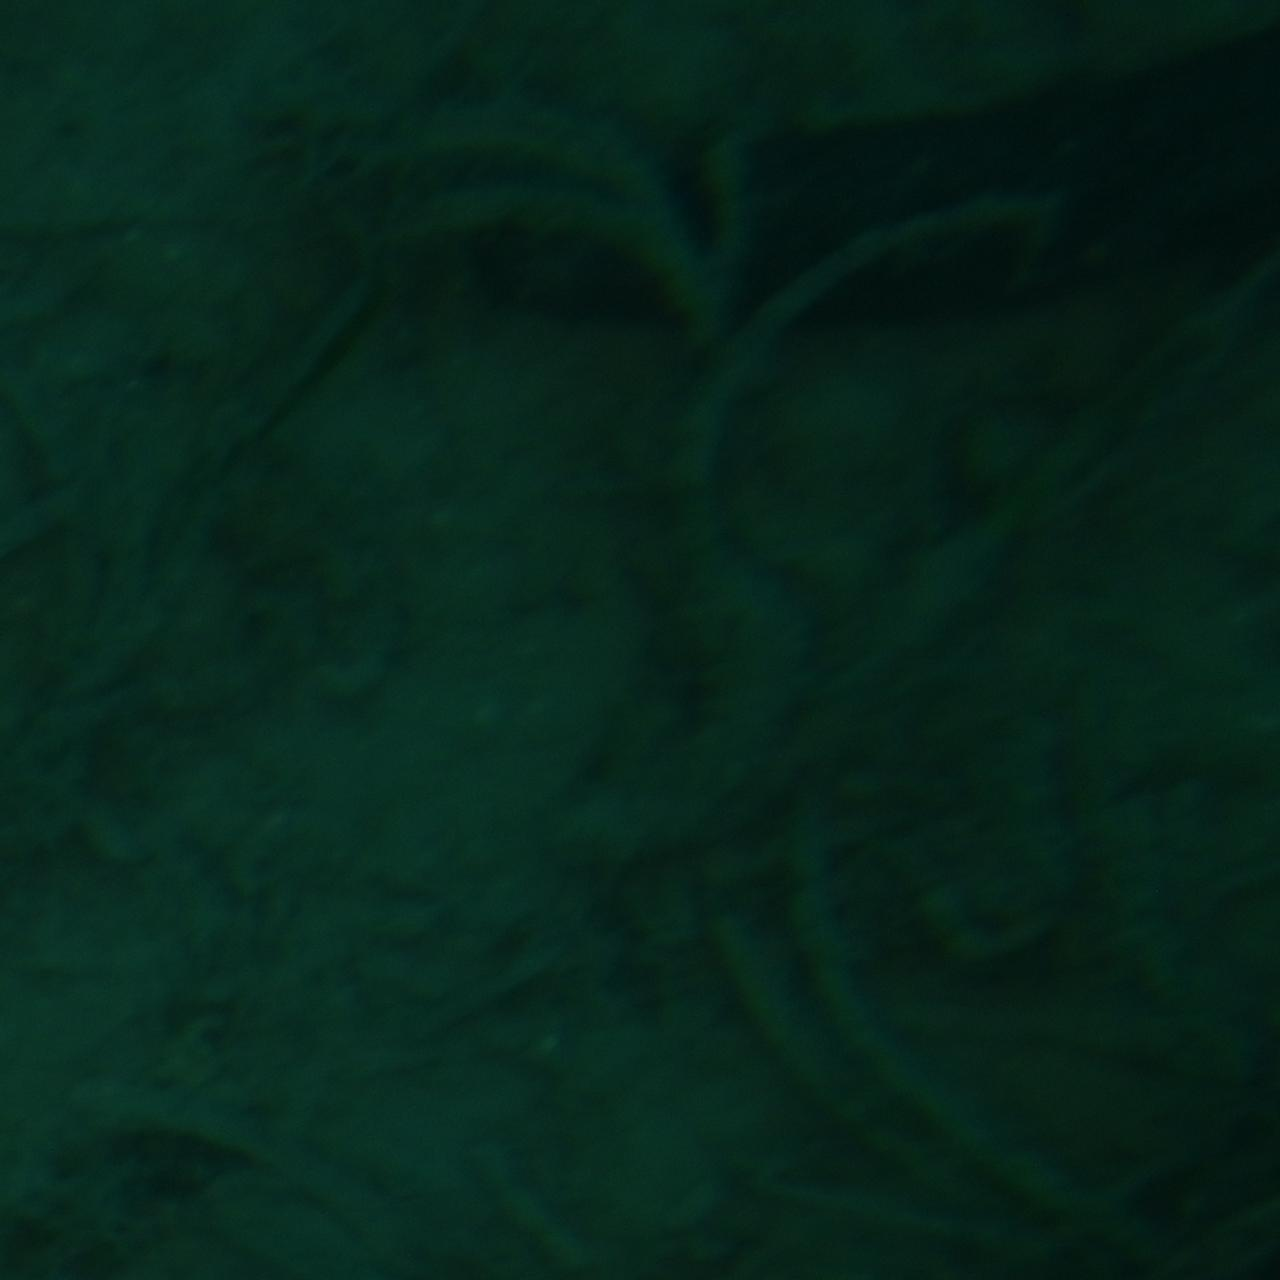Holothuria tubulosa: (459, 2, 1276, 350)
